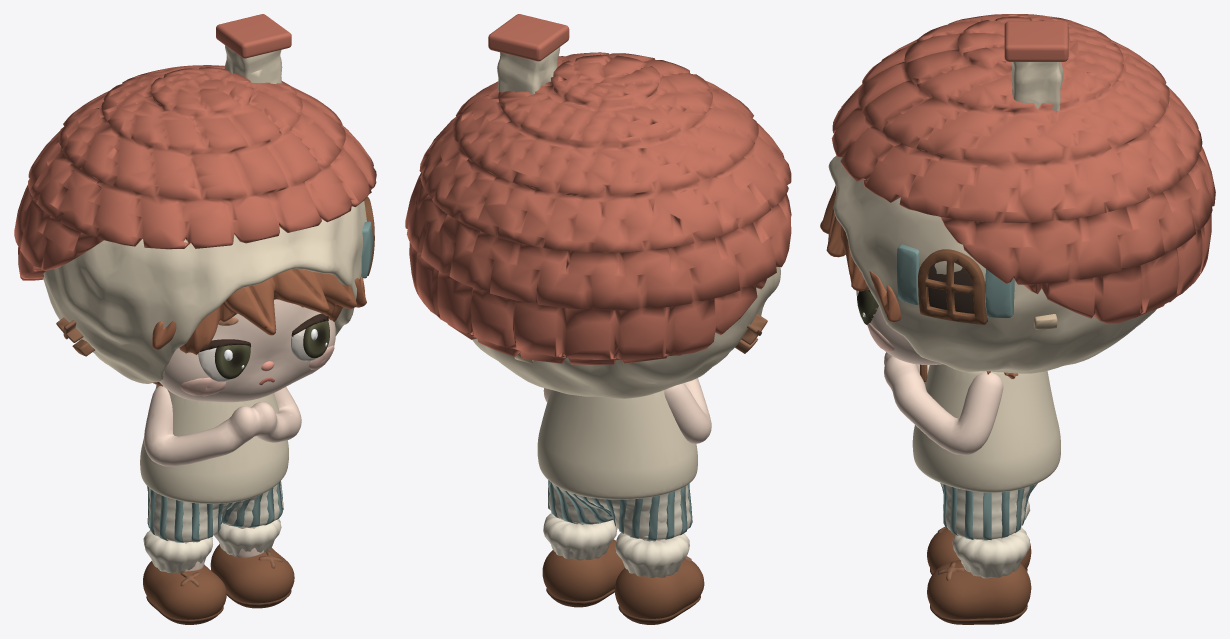
File: hearth_helm_roblox.glb
3 renders of one model, left to right at view 1: azimuth 30°, elevation 25°; view 2: azimuth 150°, elevation 25°; view 3: azimuth 270°, elevation 25°, orthographic. The views are drawn at different scales.
Parts seen in each view (by area): view 1: HearthHelm_Roof, HearthHelm_Helmet, HearthHelm_Tunic, HearthHelm_Head, HearthHelm_Shoes, HearthHelm_Arms, HearthHelm_Hair, HearthHelm_Socks, HearthHelm_ShortStripes, HearthHelm_Shorts, HearthHelm_ChimneyCap, HearthHelm_Iris (+7 smaller); view 2: HearthHelm_Roof, HearthHelm_Tunic, HearthHelm_Helmet, HearthHelm_Shoes, HearthHelm_Socks, HearthHelm_ShortStripes, HearthHelm_Shorts, HearthHelm_ChimneyCap, HearthHelm_Arms, HearthHelm_Chimney, HearthHelm_Soles, HearthHelm_Stitches; view 3: HearthHelm_Roof, HearthHelm_Helmet, HearthHelm_Tunic, HearthHelm_Arms, HearthHelm_Shoes, HearthHelm_WindowFrame, HearthHelm_Socks, HearthHelm_ChimneyCap, HearthHelm_Shutters, HearthHelm_Shorts, HearthHelm_Hair, HearthHelm_Chimney (+4 smaller).
Boxes of the visible parts, bbox=[...] form: HearthHelm_Roof: bbox=[14, 65, 376, 280]; HearthHelm_Helmet: bbox=[43, 201, 366, 383]; HearthHelm_Tunic: bbox=[140, 385, 288, 503]; HearthHelm_Head: bbox=[159, 299, 335, 402]; HearthHelm_Shoes: bbox=[143, 544, 294, 619]; HearthHelm_Arms: bbox=[144, 386, 301, 466]; HearthHelm_Hair: bbox=[152, 269, 366, 386]; HearthHelm_Socks: bbox=[143, 519, 281, 572]; HearthHelm_ShortStripes: bbox=[147, 481, 283, 542]; HearthHelm_Shorts: bbox=[148, 482, 282, 542]; HearthHelm_ChimneyCap: bbox=[216, 14, 291, 58]; HearthHelm_Iris: bbox=[214, 320, 329, 378]; HearthHelm_Roof: bbox=[405, 52, 791, 364]; HearthHelm_Tunic: bbox=[537, 390, 697, 499]; HearthHelm_Helmet: bbox=[472, 267, 780, 398]; HearthHelm_Shoes: bbox=[542, 539, 704, 618]; HearthHelm_Socks: bbox=[543, 513, 689, 578]; HearthHelm_ShortStripes: bbox=[548, 480, 692, 540]; HearthHelm_Shorts: bbox=[548, 482, 692, 539]; HearthHelm_ChimneyCap: bbox=[488, 14, 569, 61]; HearthHelm_Arms: bbox=[543, 378, 711, 443]; HearthHelm_Chimney: bbox=[497, 47, 559, 94]; HearthHelm_Soles: bbox=[546, 588, 700, 624]; HearthHelm_Stitches: bbox=[735, 314, 767, 353]; HearthHelm_Roof: bbox=[831, 14, 1215, 324]; HearthHelm_Helmet: bbox=[828, 155, 1156, 373]; HearthHelm_Tunic: bbox=[912, 364, 1060, 492]; HearthHelm_Arms: bbox=[884, 352, 1003, 455]; HearthHelm_Shoes: bbox=[927, 529, 1031, 619]; HearthHelm_WindowFrame: bbox=[918, 249, 987, 324]; HearthHelm_Socks: bbox=[952, 500, 1030, 578]; HearthHelm_ChimneyCap: bbox=[1004, 21, 1068, 61]; HearthHelm_Shutters: bbox=[896, 244, 1014, 318]; HearthHelm_Shorts: bbox=[941, 483, 1036, 539]; HearthHelm_Hair: bbox=[820, 185, 1018, 378]; HearthHelm_Chimney: bbox=[1011, 62, 1063, 110].
Size of the model in its own units: 2.22 by 3.51 by 2.1.
24 materials, 24 textured.
